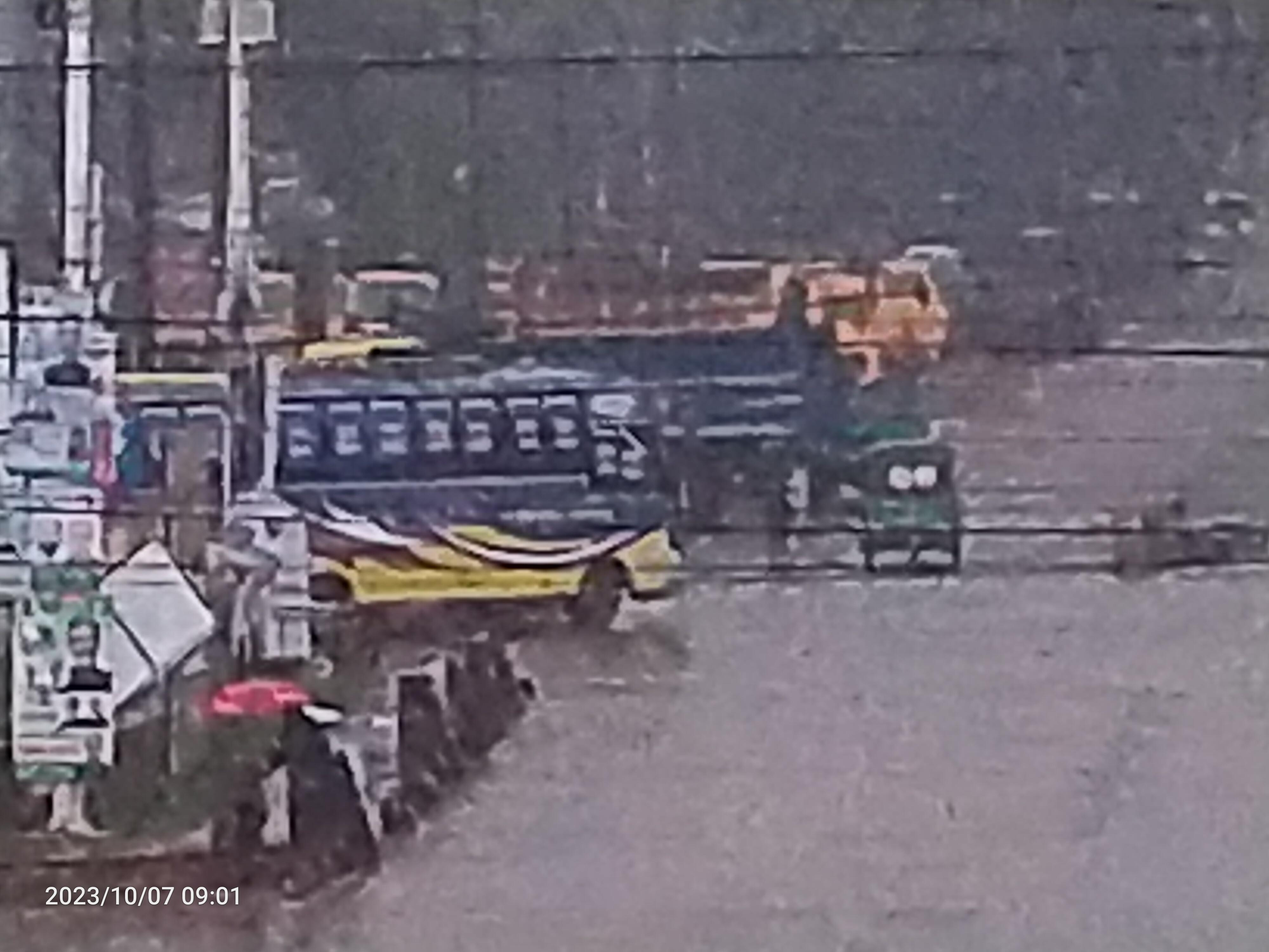Bus: (82, 327, 727, 648)
